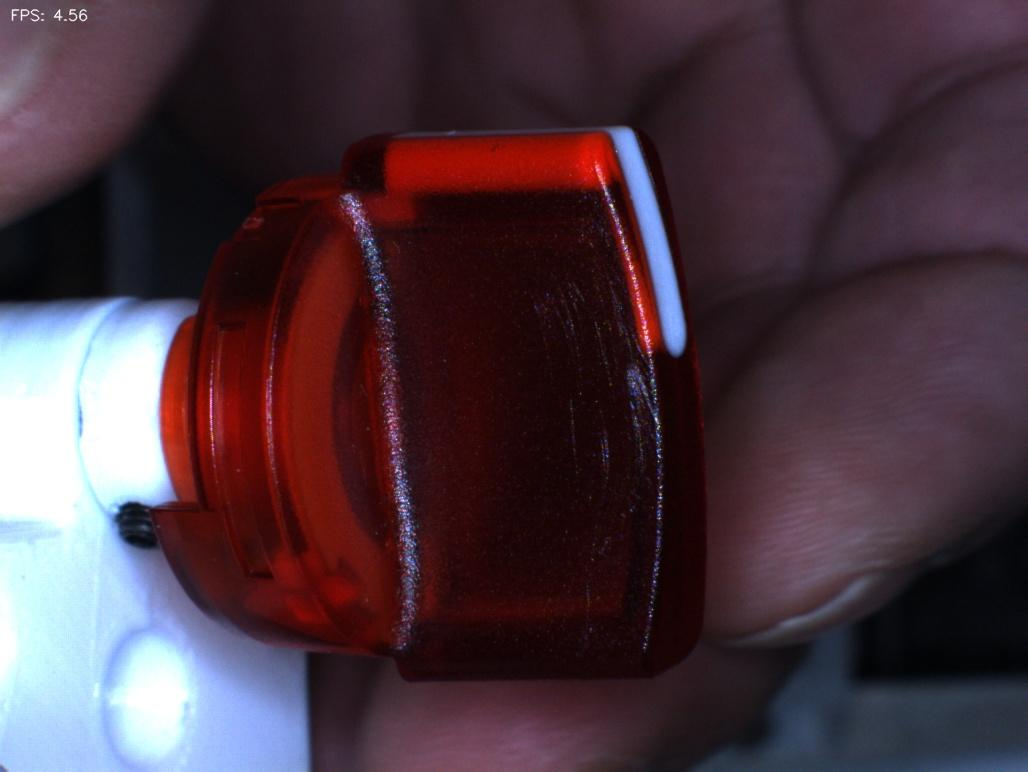Givrage: (526, 310, 661, 539)
